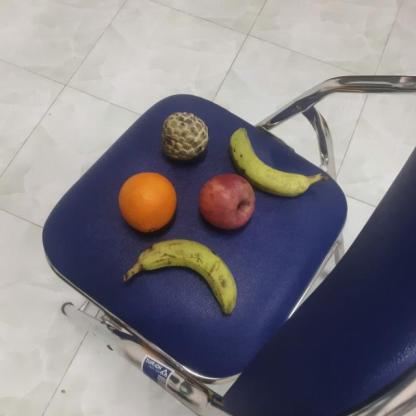annona: (159, 111, 211, 162)
apple: (197, 170, 257, 232)
banana: (133, 236, 240, 316), (225, 124, 309, 198)
orange: (116, 170, 178, 235)
